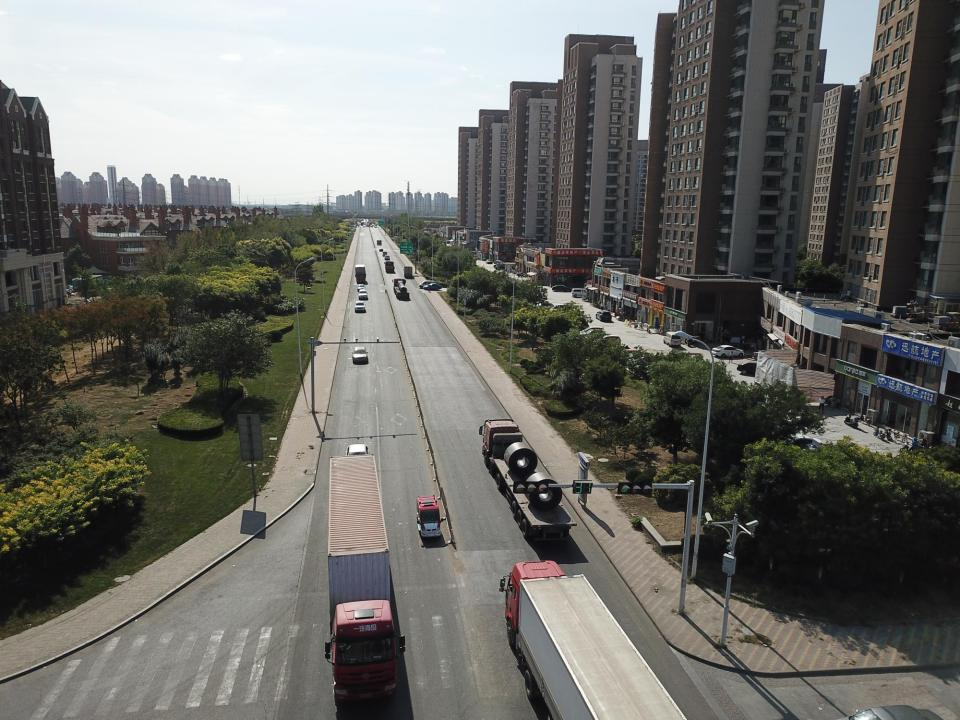bus: (419, 494, 445, 546)
car: (574, 329, 652, 368), (772, 431, 833, 456), (711, 342, 746, 358), (735, 362, 770, 376), (551, 303, 581, 315), (351, 346, 369, 364), (530, 301, 556, 311), (422, 283, 446, 293), (571, 288, 590, 300), (550, 283, 570, 293), (354, 300, 366, 314), (357, 289, 369, 301), (493, 262, 511, 270), (464, 250, 478, 260), (356, 283, 365, 292), (375, 238, 384, 246), (484, 258, 492, 264), (382, 251, 388, 256), (384, 254, 390, 259), (379, 246, 383, 252)
truck: (508, 562, 722, 718), (326, 454, 404, 702), (354, 264, 366, 285), (401, 265, 415, 279), (384, 260, 395, 274)
van: (342, 441, 373, 459), (662, 331, 682, 350), (594, 310, 612, 323), (417, 278, 436, 289)
